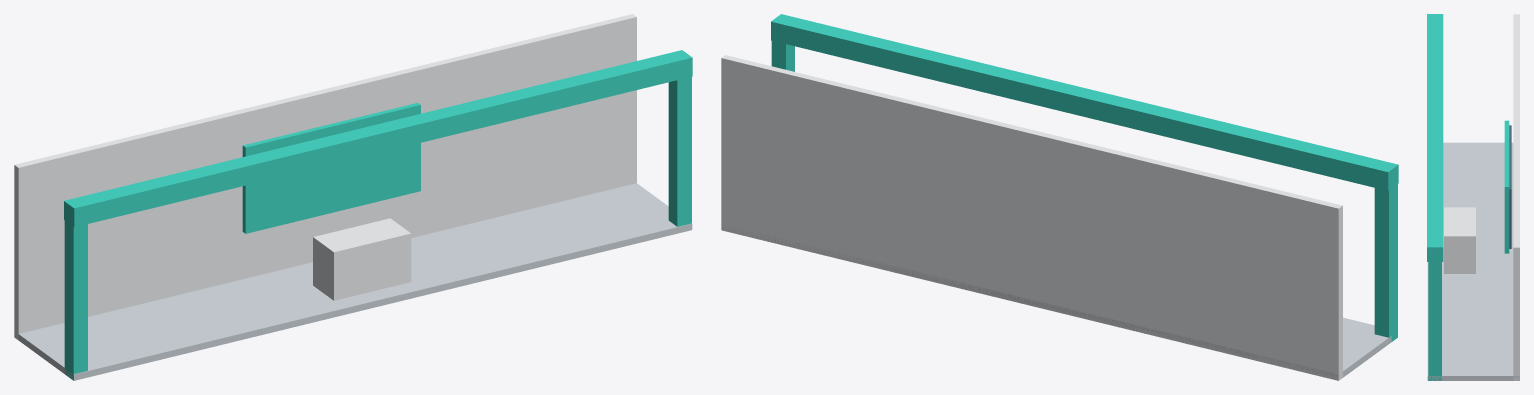
3 views of the same model, side by side, from view 1: azimuth 30°, elevation 25°; view 2: azimuth 150°, elevation 25°; view 3: azimuth 270°, elevation 25° (orthographic). The views are drawn at different scales.
Visible parts, largest first — view 1: Exhibition Booth Concept; view 2: Exhibition Booth Concept; view 3: Exhibition Booth Concept.
Boxes of the visible parts, left/top/right/bottom form: Exhibition Booth Concept: left=14, top=14, right=692, bottom=380; Exhibition Booth Concept: left=721, top=14, right=1398, bottom=380; Exhibition Booth Concept: left=1427, top=14, right=1519, bottom=380.
Bounding box in the file's own units: 12 × 3.2 × 2.01.
